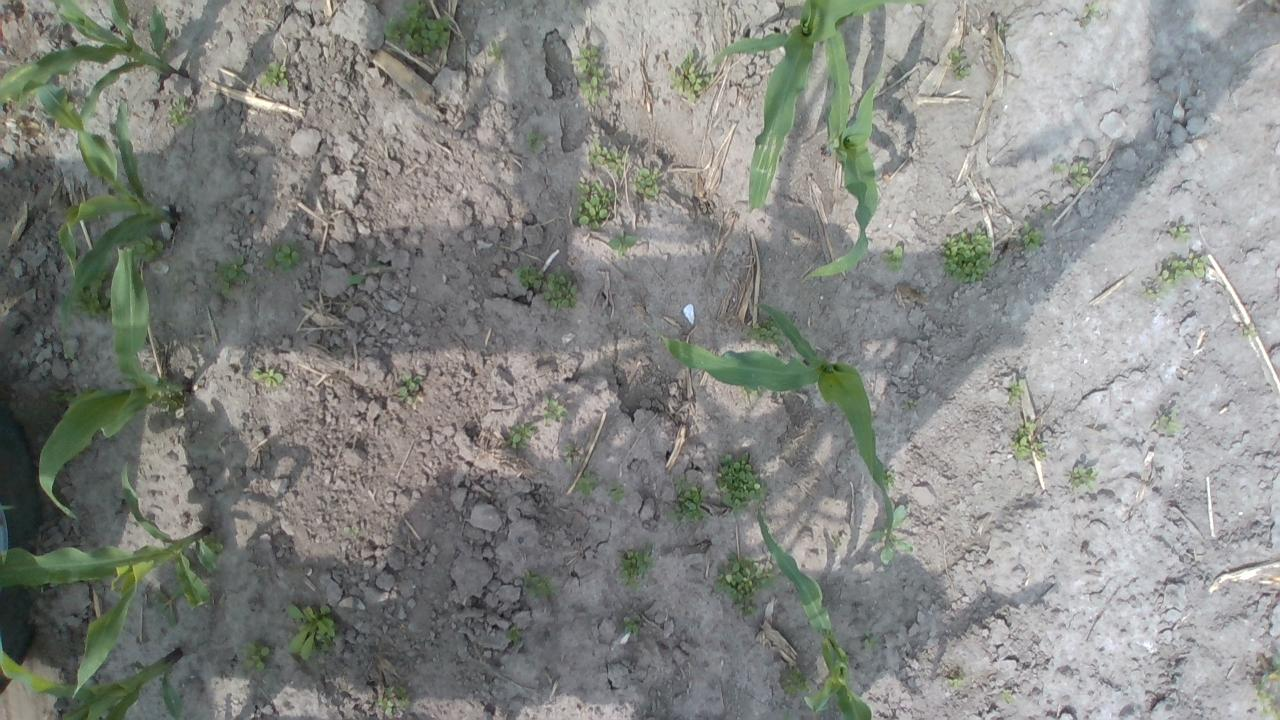Maize: (656, 303, 894, 553), (0, 463, 221, 700), (716, 0, 938, 214), (36, 244, 194, 522), (54, 102, 183, 328), (754, 510, 874, 719), (2, 1, 186, 127), (799, 74, 892, 278), (0, 640, 184, 720)
Weeds: (714, 554, 779, 618), (382, 0, 452, 57), (938, 228, 996, 288), (716, 453, 766, 516), (284, 602, 336, 661), (869, 505, 912, 566), (670, 50, 714, 102), (574, 180, 616, 230), (616, 542, 656, 594), (668, 475, 708, 523), (1254, 655, 1280, 720), (591, 139, 629, 177), (77, 274, 109, 318), (1012, 424, 1048, 462), (543, 273, 578, 310), (215, 254, 248, 290), (1170, 252, 1212, 279), (376, 684, 408, 719), (256, 61, 290, 93), (523, 570, 557, 602), (264, 244, 301, 272), (578, 74, 610, 106), (168, 97, 198, 131), (1014, 221, 1046, 252), (752, 319, 784, 349), (634, 166, 664, 196), (505, 423, 538, 450), (1068, 160, 1096, 190), (134, 237, 164, 265), (242, 642, 270, 672), (572, 469, 602, 496), (1070, 464, 1100, 490), (783, 670, 813, 696), (561, 441, 586, 470), (398, 373, 423, 402), (881, 246, 906, 274), (516, 266, 545, 290), (1156, 410, 1182, 436), (542, 398, 568, 424), (575, 47, 599, 74), (607, 235, 637, 256), (253, 369, 284, 388), (1008, 379, 1026, 404), (624, 614, 642, 636), (1160, 269, 1179, 289), (524, 132, 545, 150), (1084, 1, 1102, 22), (610, 482, 628, 503), (1170, 226, 1192, 243), (506, 626, 524, 646), (343, 524, 361, 544), (486, 43, 504, 62), (864, 630, 880, 650), (952, 65, 972, 81), (1142, 286, 1164, 300), (949, 673, 967, 690), (346, 274, 369, 286), (880, 470, 896, 487), (949, 49, 964, 65), (1242, 322, 1256, 336), (1040, 203, 1055, 216), (371, 261, 392, 270), (1000, 692, 1014, 705), (908, 398, 921, 410), (999, 22, 1010, 34), (832, 537, 844, 548), (1052, 162, 1064, 172)
